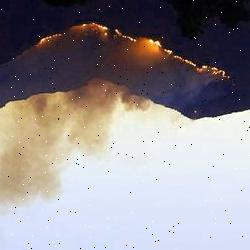fire: (30, 21, 228, 84)
